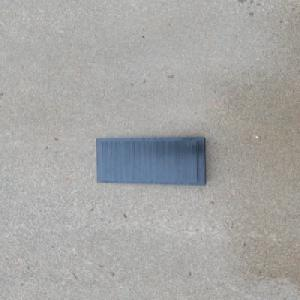PlasticPart: (94, 136, 207, 186)
